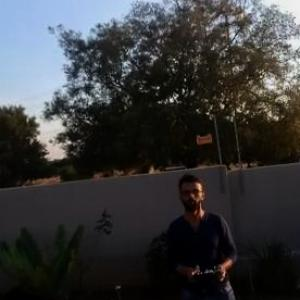follow: (162, 166, 245, 299)
